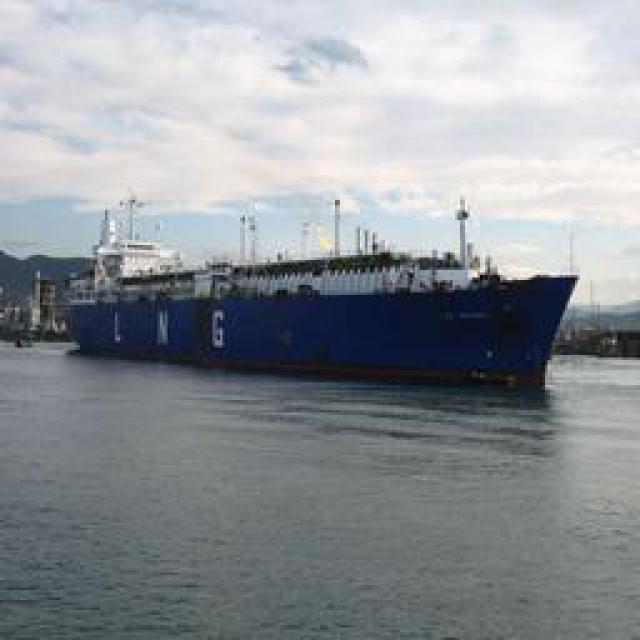Ship: (58, 189, 583, 389)
